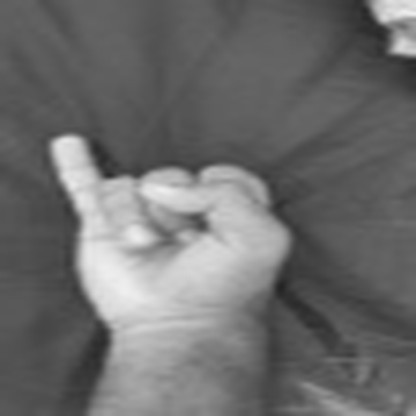i: (43, 125, 303, 314)
